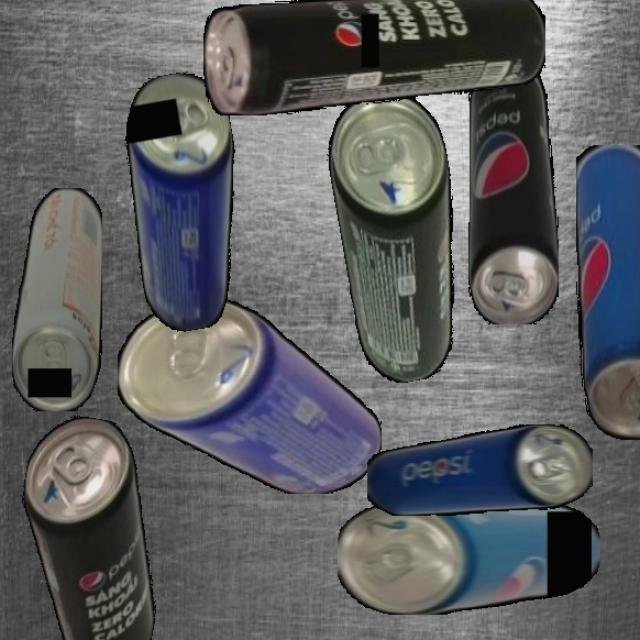debris: (118, 298, 382, 494), (318, 86, 484, 388), (0, 409, 187, 640), (109, 66, 264, 336), (202, 0, 545, 115), (338, 499, 600, 615), (467, 66, 559, 324), (366, 424, 593, 516), (11, 187, 102, 411), (575, 144, 640, 440)
